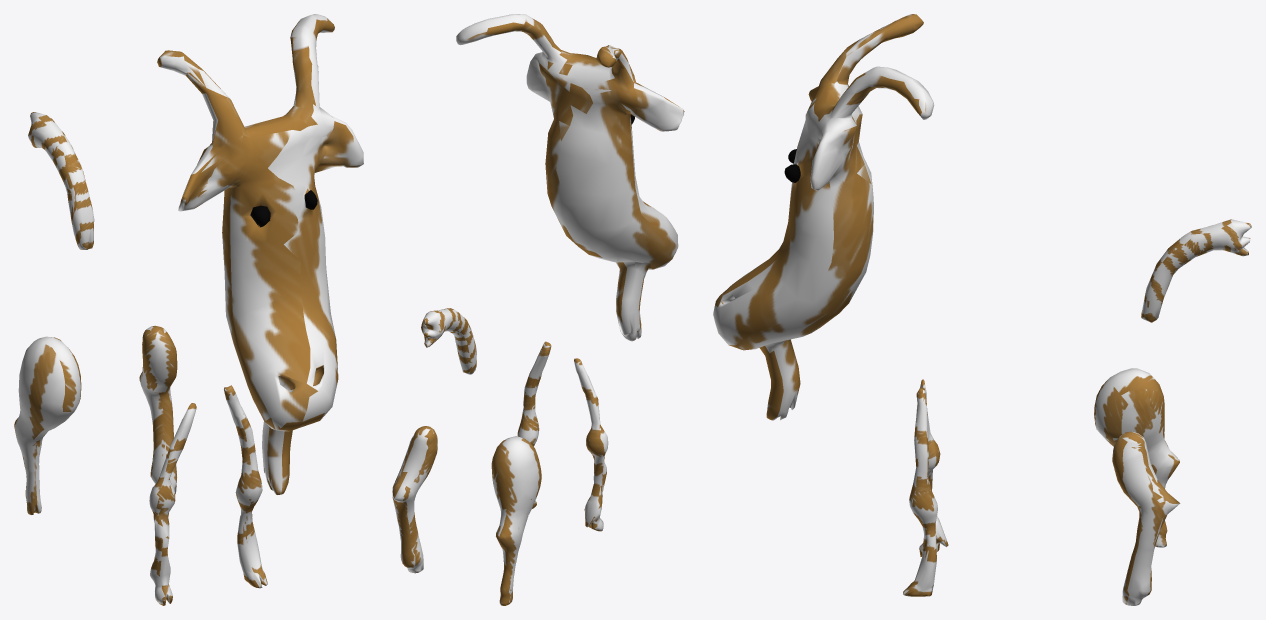
Rendered from ch6_goat.glb.
The picture shows the model from 3 angles, left to right: view 1: azimuth 30°, elevation 25°; view 2: azimuth 150°, elevation 25°; view 3: azimuth 270°, elevation 25°; orthographic projection. The views are drawn at different scales.
Parts seen in each view (by area): view 1: _h6, _r63, _r62, _b61, _r61, _b62; view 2: _h6, _r63, _r62, _b62, _r61, _b61; view 3: _h6, _r63, _r62, _r61, _b61, _b62.
Part boxes in pixels (x1,y1,x2,y2): _h6: (157,14,363,494); _r63: (14,336,81,514); _r62: (139,325,177,493); _b61: (224,385,267,588); _r61: (28,112,94,249); _b62: (149,403,196,605); _h6: (456,14,684,341); _r63: (491,436,541,605); _r62: (392,426,437,573); _b62: (574,358,608,531); _r61: (421,308,476,374); _b61: (517,341,551,508); _h6: (713,14,934,420); _r63: (1094,368,1179,547); _r62: (1112,431,1180,605); _r61: (1141,219,1251,322); _b61: (903,387,937,596); _b62: (919,379,948,556).
Size of the model in its own units: 0.5763 by 1.47 by 1.32.
Materials: 2 (1 with a texture image).
